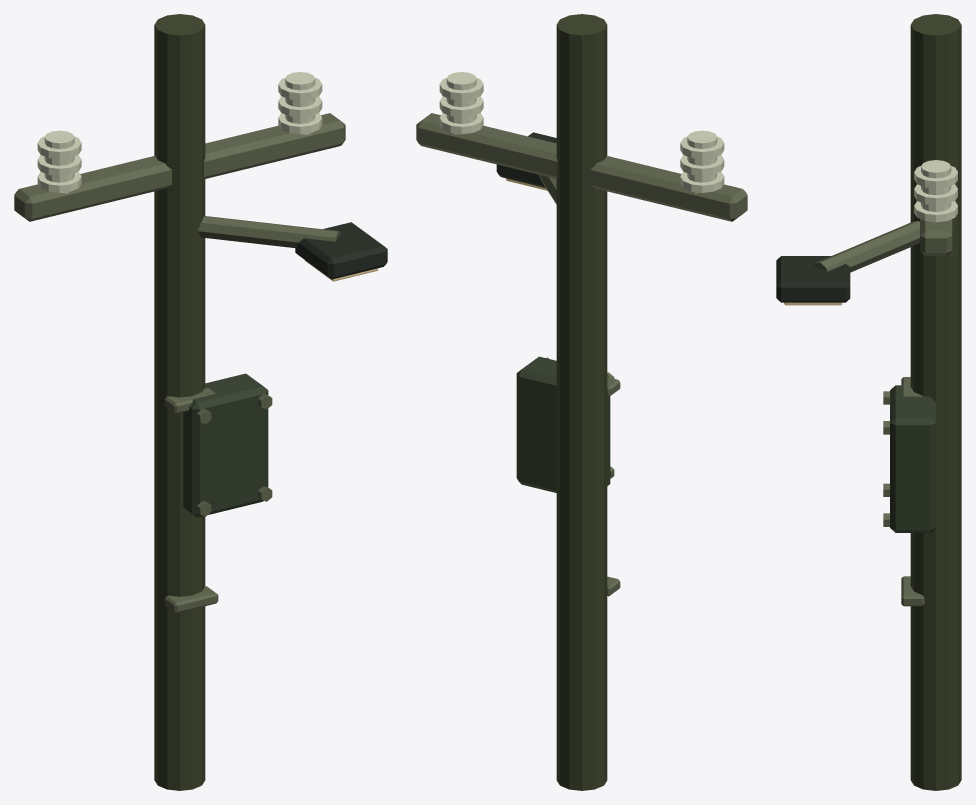
File: utility_pole.obj
3 renders of one model, left to right at view 1: azimuth 30°, elevation 25°; view 2: azimuth 150°, elevation 25°; view 3: azimuth 270°, elevation 25°, orthographic.
Parts seen in each view (by area): view 1: utility_pole; view 2: utility_pole; view 3: utility_pole.
Part boxes in pixels (x1,y1,x2,y2): utility_pole: (14, 14, 387, 790); utility_pole: (416, 14, 747, 790); utility_pole: (776, 14, 961, 790).
Bounding box in the file's own units: 1.6 × 3.6 × 0.8.
1 material, 1 textured.
